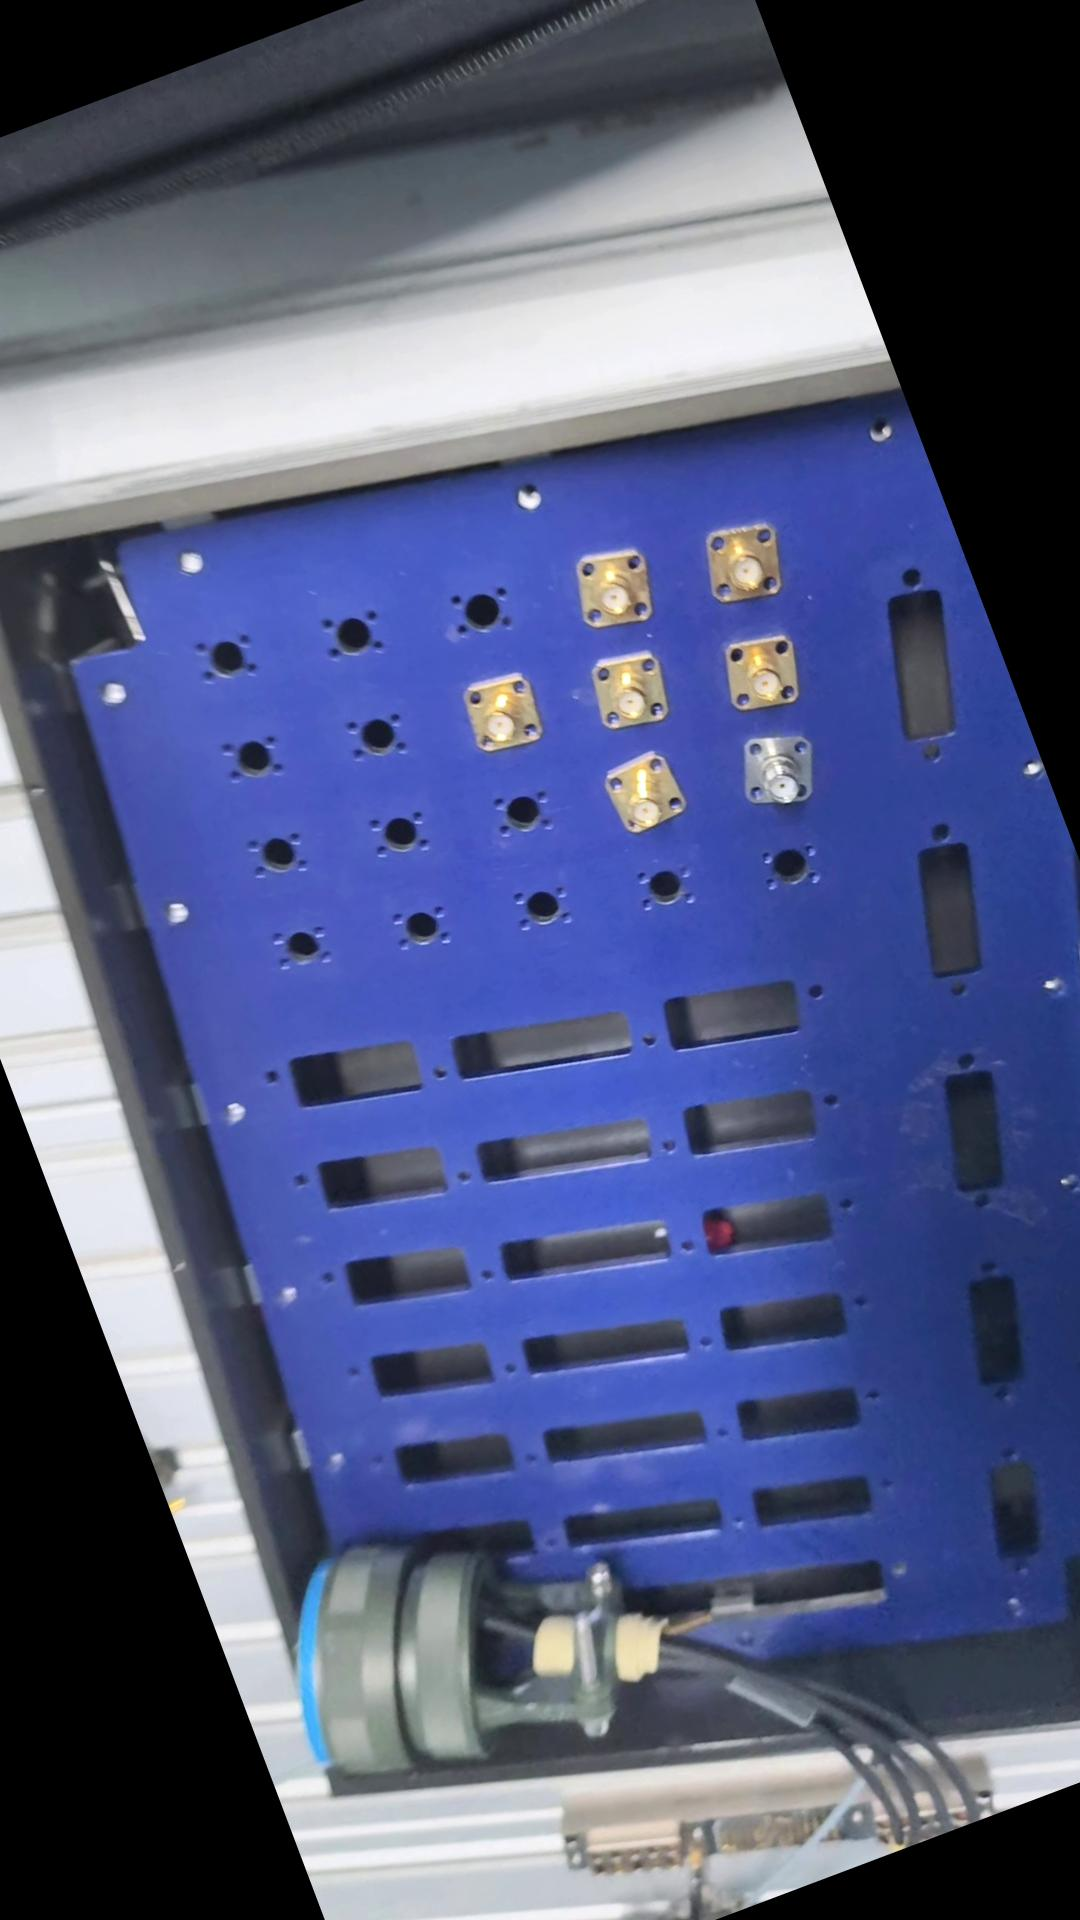SMA: (684, 506, 800, 615), (554, 537, 667, 642), (448, 665, 549, 769), (708, 626, 811, 724), (592, 745, 692, 844), (728, 719, 828, 815), (580, 645, 679, 736)
